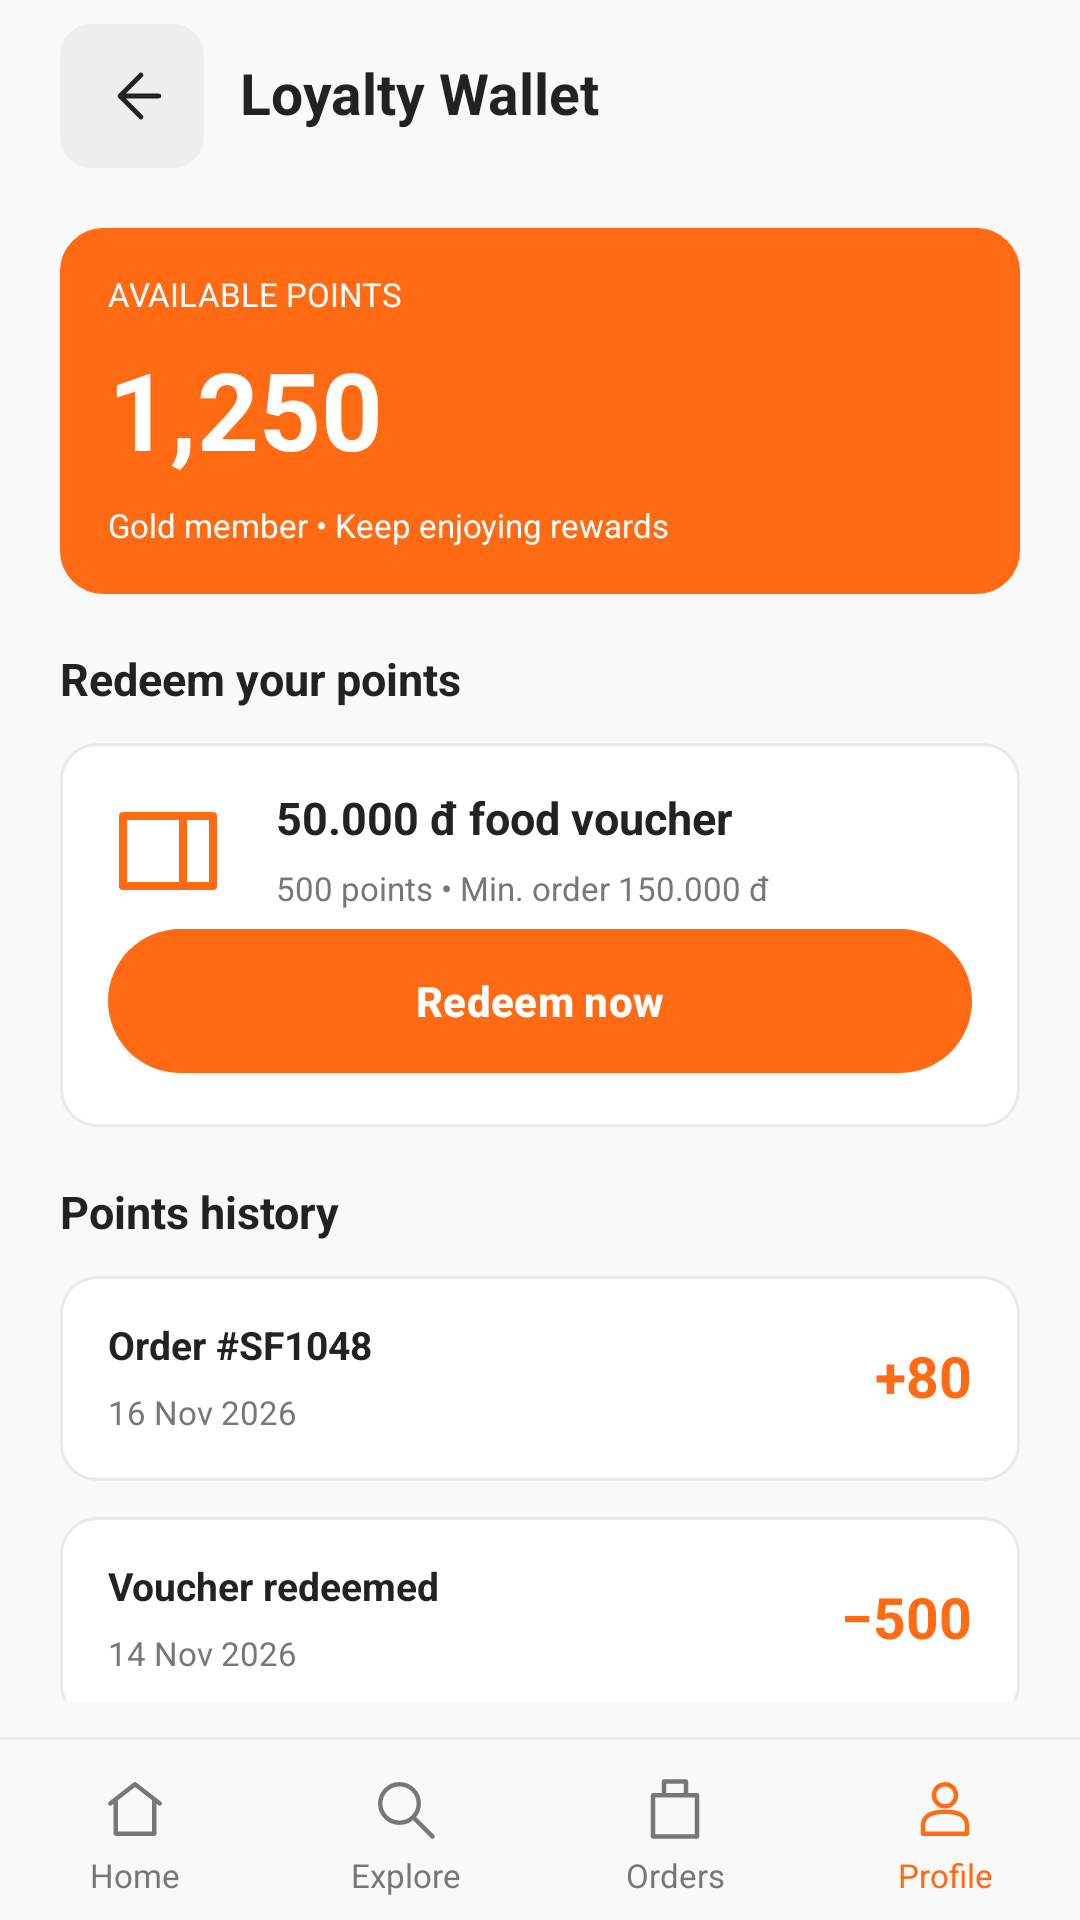

Screen size 1080px×1920px. Icon name, then its center in pixels as (x=x, y=y):
Back: (x=132, y=96)
tv bag: (x=675, y=1809)
tv person: (x=945, y=1809)
tv search: (x=406, y=1810)
tv ticket: (x=168, y=851)
